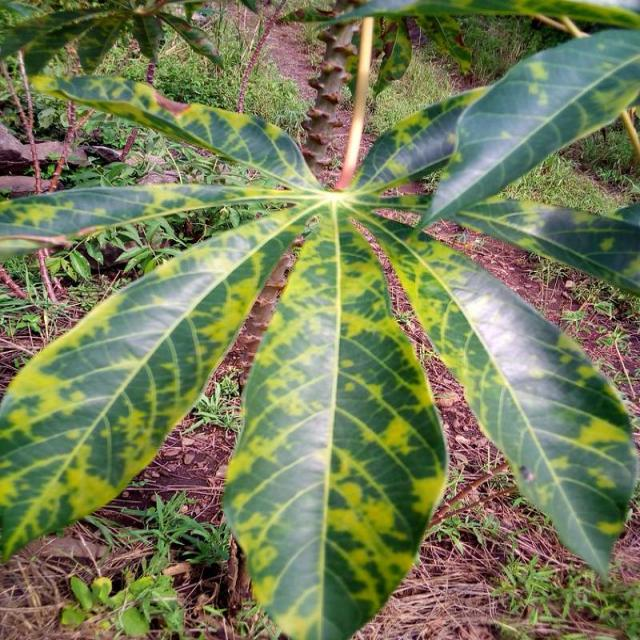cassava leaf: (2, 21, 639, 637), (1, 200, 322, 566), (355, 204, 639, 586), (220, 200, 450, 638)
